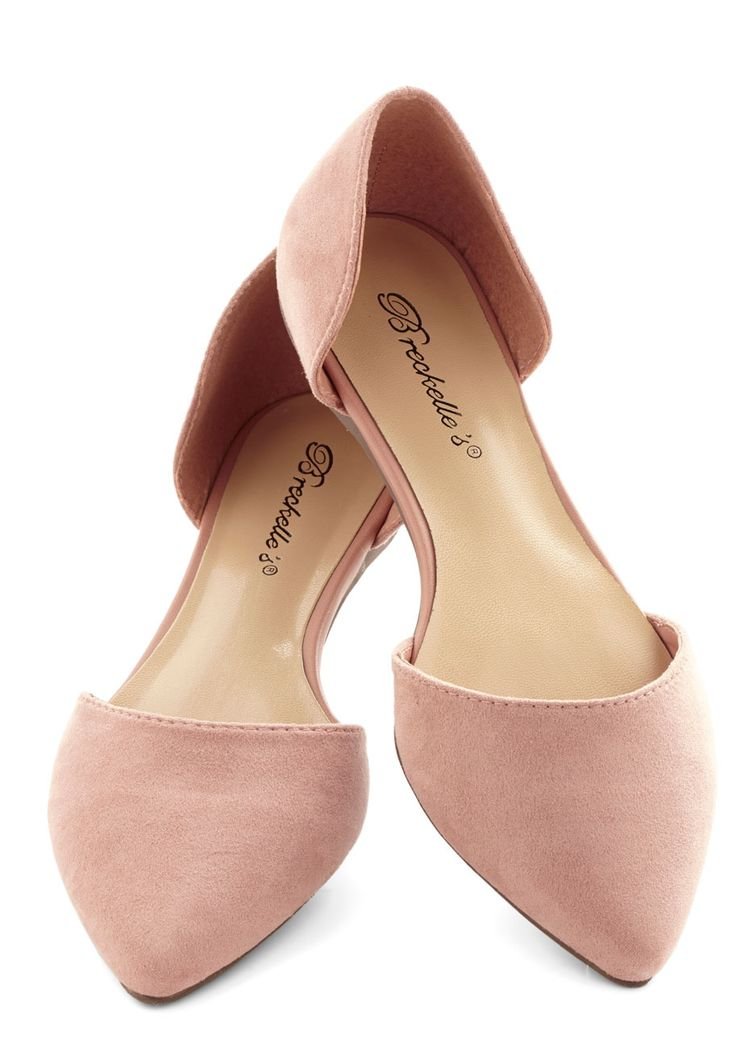gamuza: (45, 86, 713, 1000)
